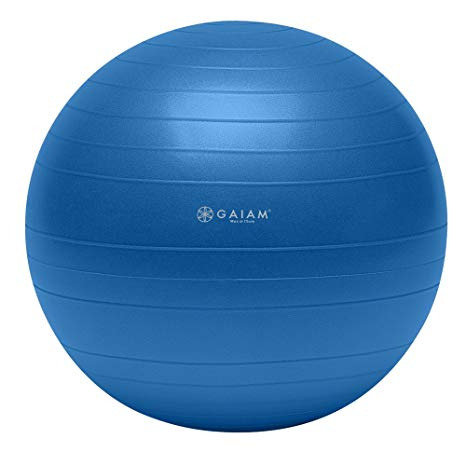yogaball: (19, 14, 452, 444)
